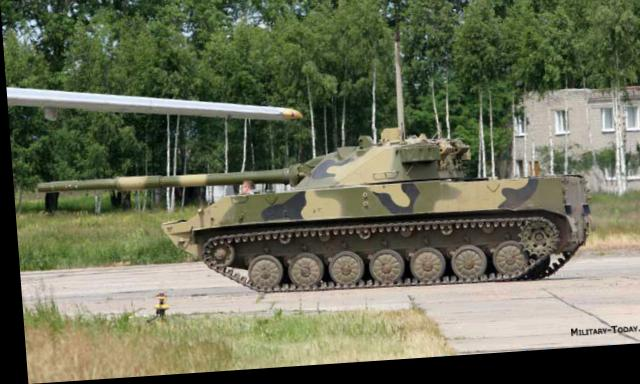tank: (169, 119, 592, 306)
